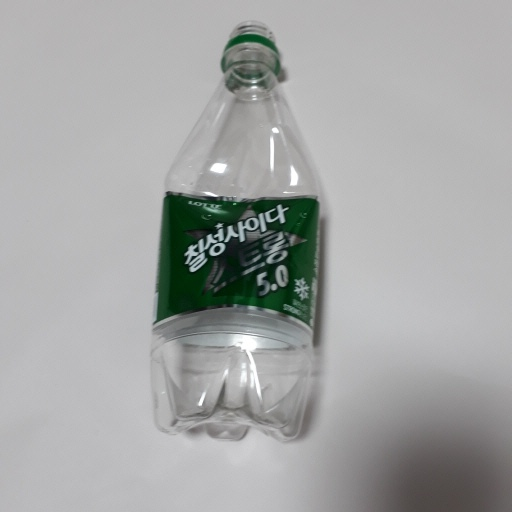Plastic_0: (149, 17, 328, 449)
